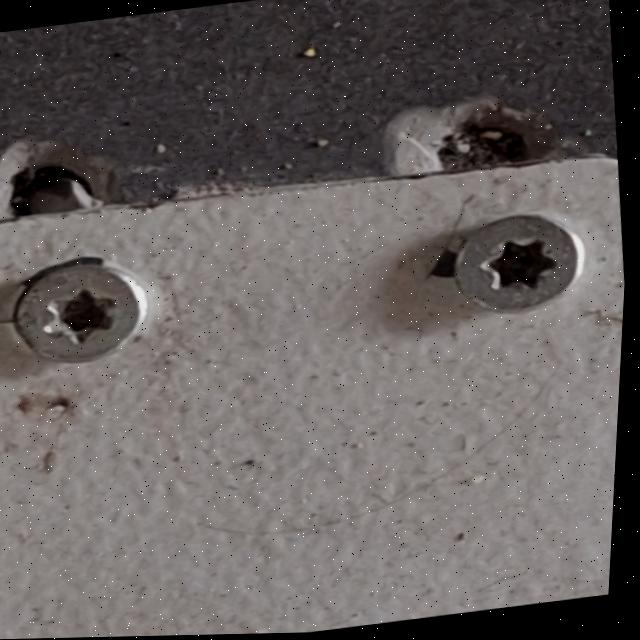Torx: (443, 198, 592, 317), (7, 256, 148, 370)
